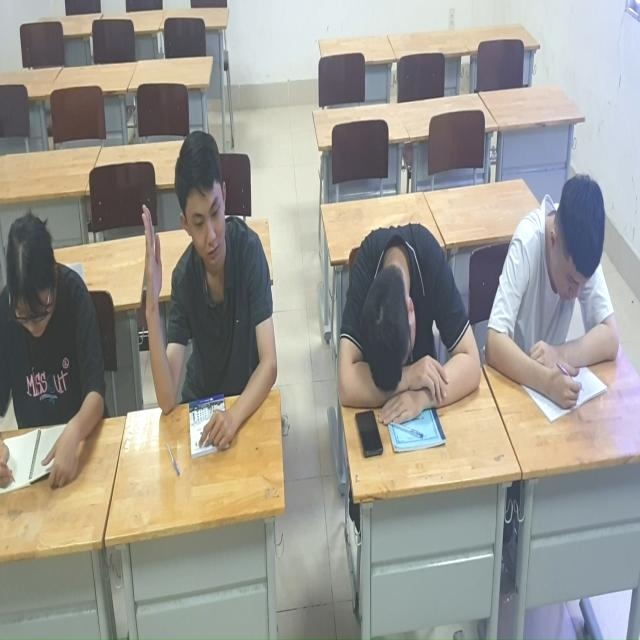raise_hand: (142, 133, 279, 463)
read: (479, 172, 623, 432), (1, 214, 107, 485)
sleep: (323, 225, 483, 451)
